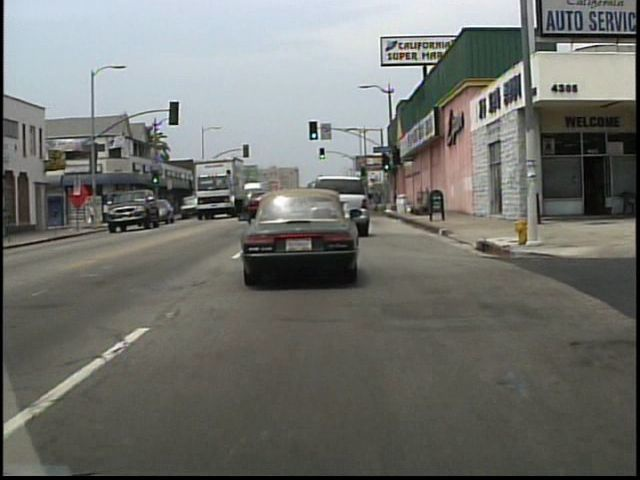person: (93, 204, 97, 227)
